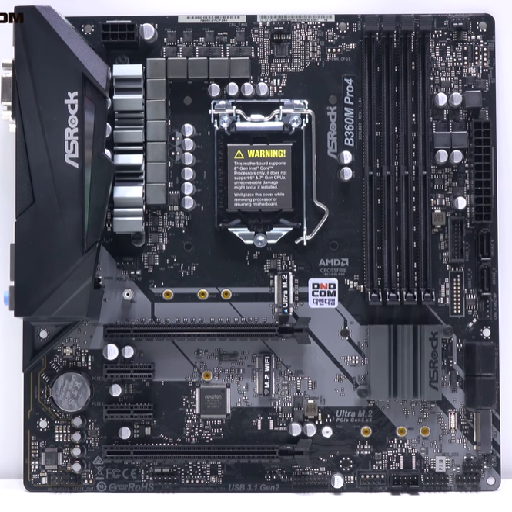CPU: (210, 94, 321, 249)
GPU: (99, 439, 315, 466), (100, 320, 313, 346)
MOTHERBOARD: (12, 8, 502, 492)
RAM: (353, 19, 442, 310)
SSD: (265, 259, 302, 320), (250, 350, 284, 403)
